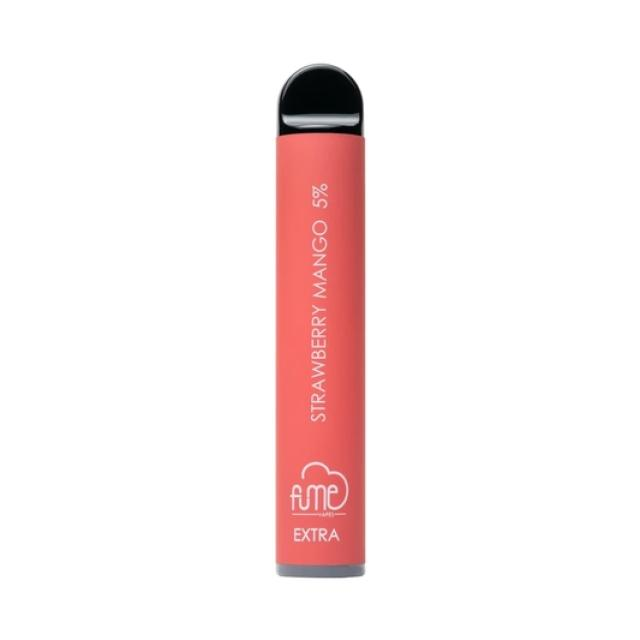Hazard: (272, 62, 368, 578)
